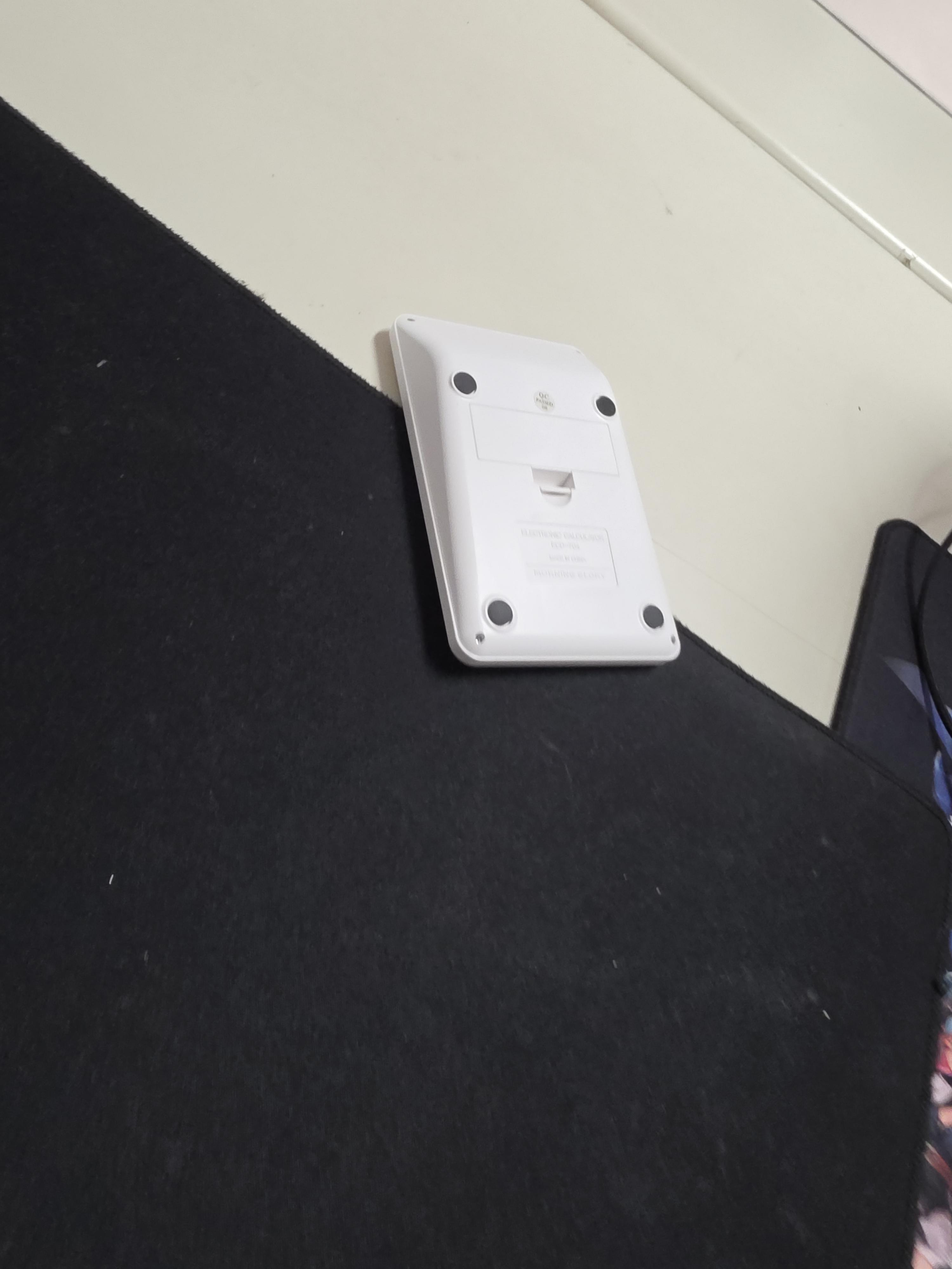calculator: (389, 313, 682, 668)
